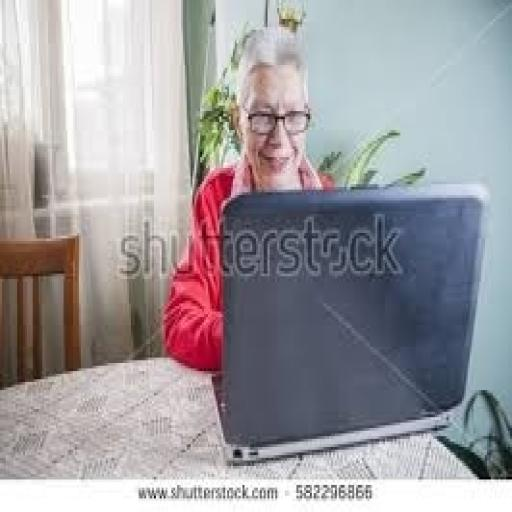using_laptop: (210, 179, 491, 466)
